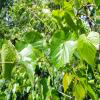grape leaf: (8, 39, 35, 90), (50, 26, 77, 73), (77, 31, 99, 68), (0, 36, 15, 83), (37, 77, 51, 99), (61, 72, 74, 94), (73, 80, 85, 99)
